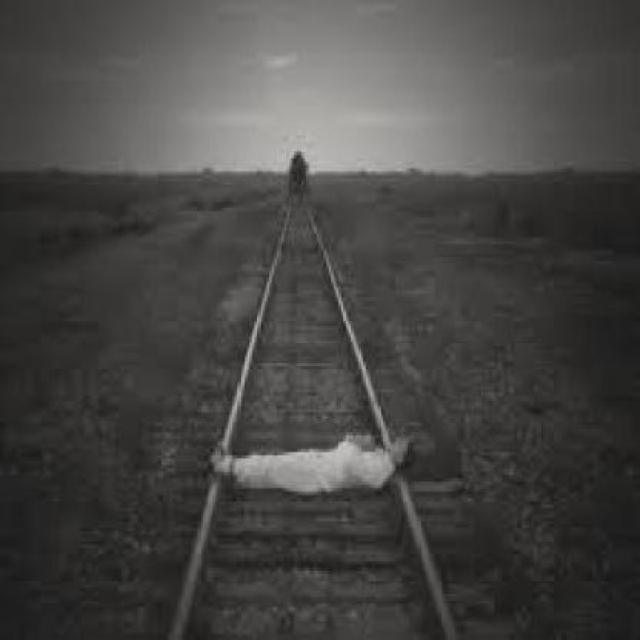danger: (186, 426, 426, 508)
rail: (176, 177, 404, 640)
